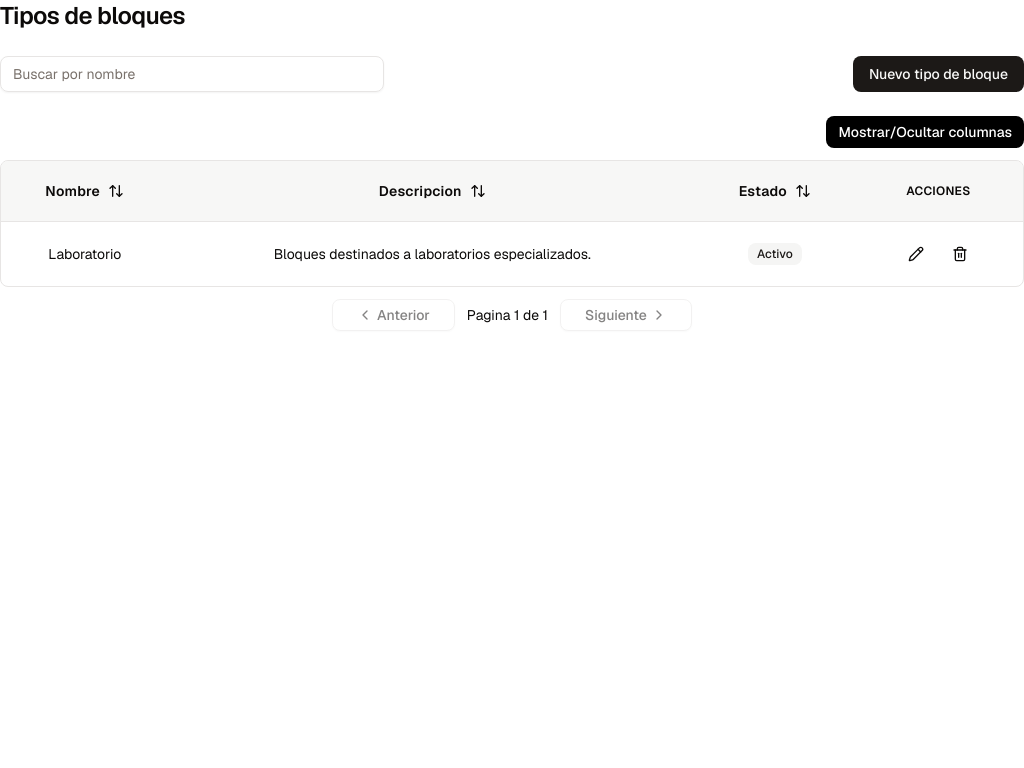
Scenario: BlockTypeListPage › permite abrir el dialogo de edicion con los datos del registro seleccionado
Check: the text "Laboratorio" is shown, box [48,245,121,263]
# Hacemos clic en el boton para abrir el dialogo emergente.
Click the button named "editar tipo de bloque" at (916, 254), box [898,236,934,272]
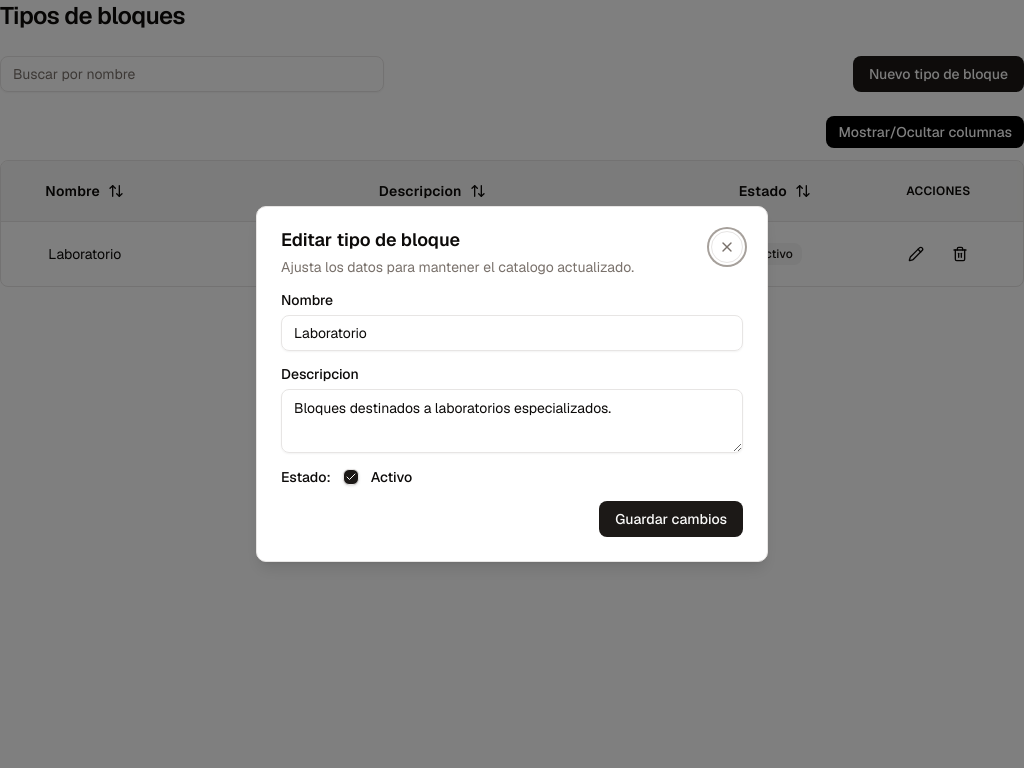
Check: the heading "Editar tipo de bloque" is shown, box [281,228,460,251]
Check: the field showing "Laboratorio" is shown, box [281,315,743,351]
Check: the text box showing "Bloques destinados a laboratorios especializados." is shown, box [281,389,743,453]
